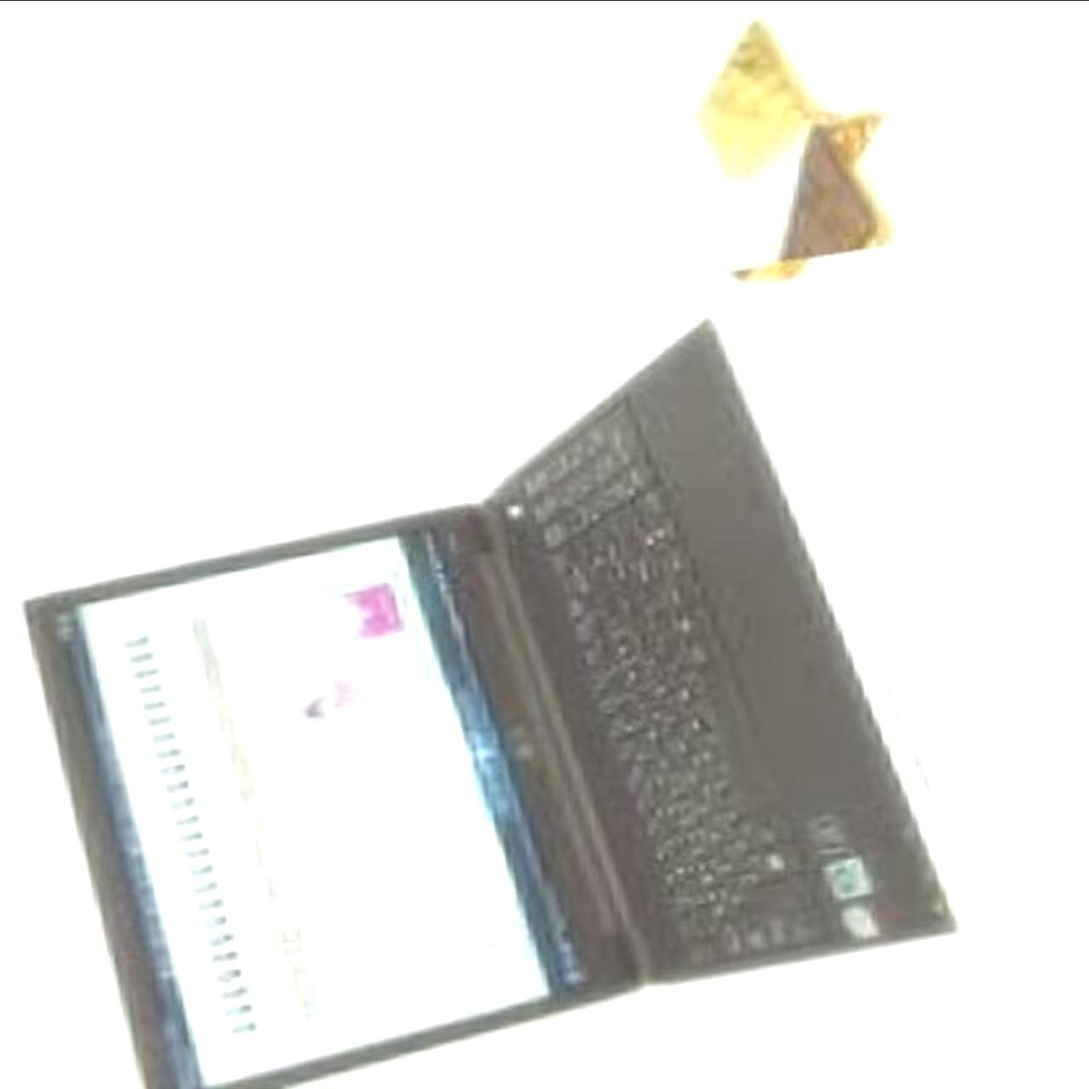laptop: (9, 276, 1036, 1089)
